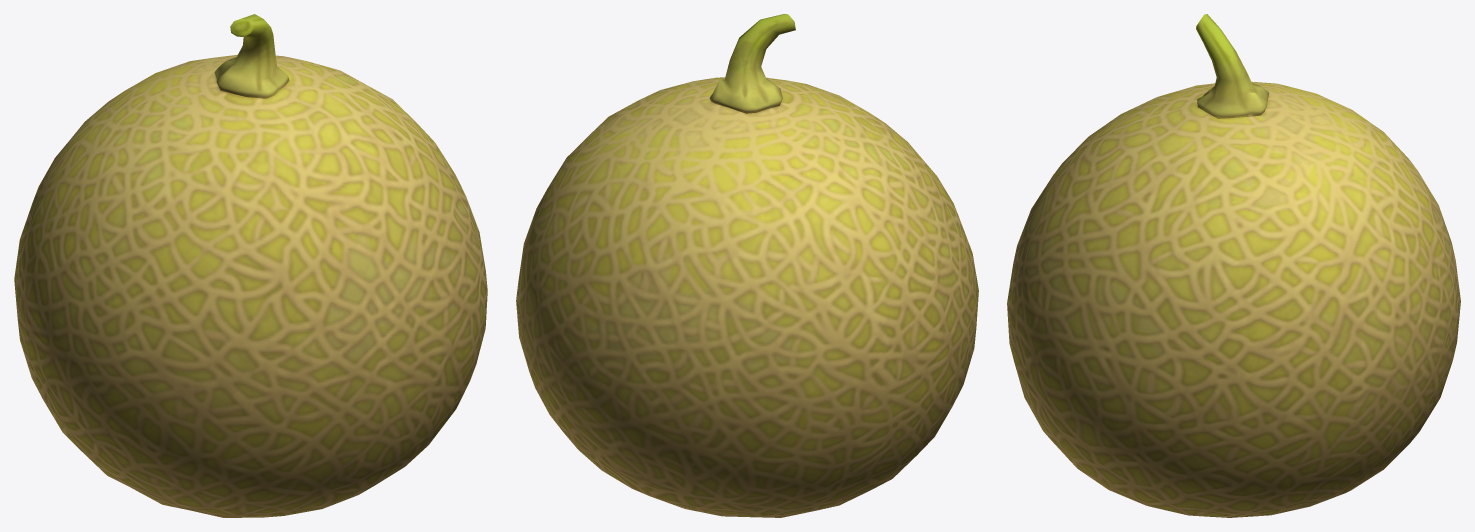
File: SM_Cantaloupe.fbx
3 views of the same model, side by side, from view 1: azimuth 30°, elevation 25°; view 2: azimuth 150°, elevation 25°; view 3: azimuth 270°, elevation 25° (orthographic). The views are drawn at different scales.
Visible parts, largest first — view 1: SM_Cantaloupe; view 2: SM_Cantaloupe; view 3: SM_Cantaloupe.
Boxes of the visible parts, x1,y1,x2,y2 form: SM_Cantaloupe: (14, 14, 487, 517); SM_Cantaloupe: (516, 14, 978, 517); SM_Cantaloupe: (1007, 14, 1460, 517).
Bounding box in the file's own units: 26.71 × 29.94 × 26.59.
